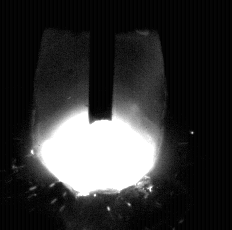arame: (89, 0, 114, 124)
poca: (31, 0, 164, 230)
